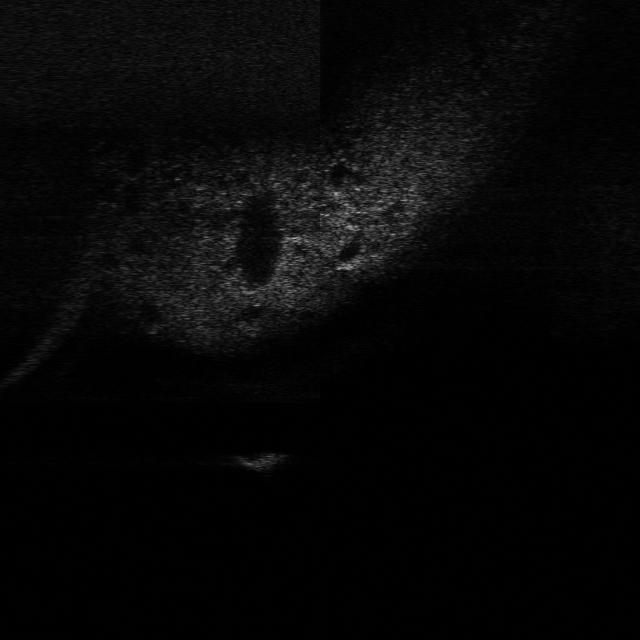cube: (232, 443, 288, 479)
